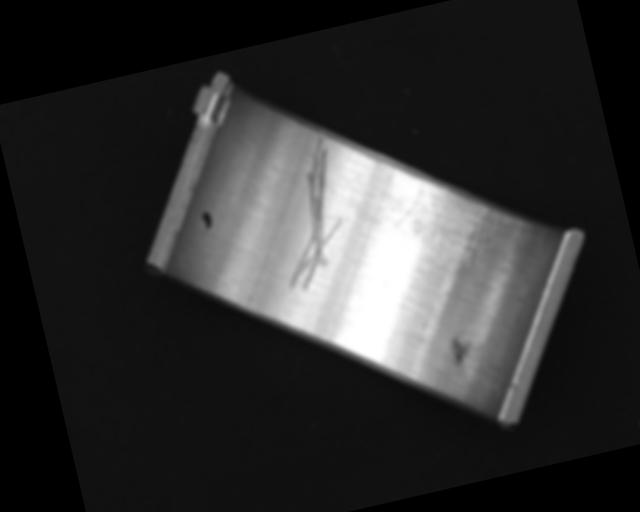blot: (199, 208, 214, 231)
bruise: (447, 332, 473, 366)
nick: (255, 126, 357, 294)
scratch: (376, 160, 529, 284)
